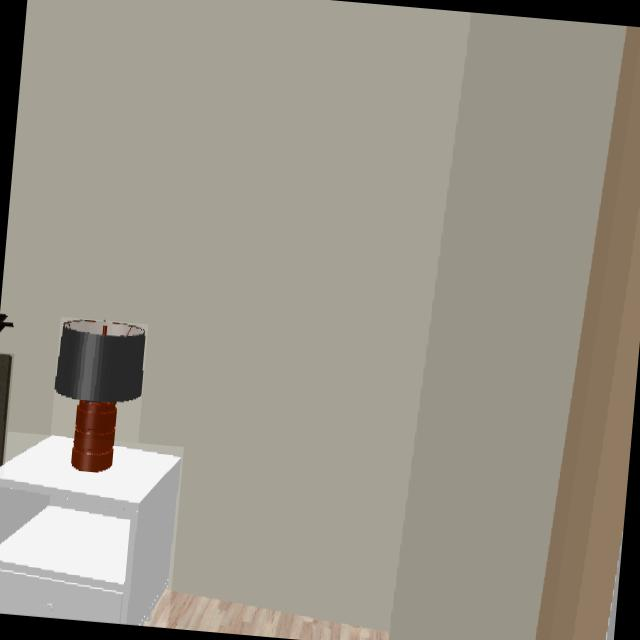bed: (0, 353, 12, 463)
lamp: (54, 318, 145, 474)
nighttable: (0, 436, 182, 625)
